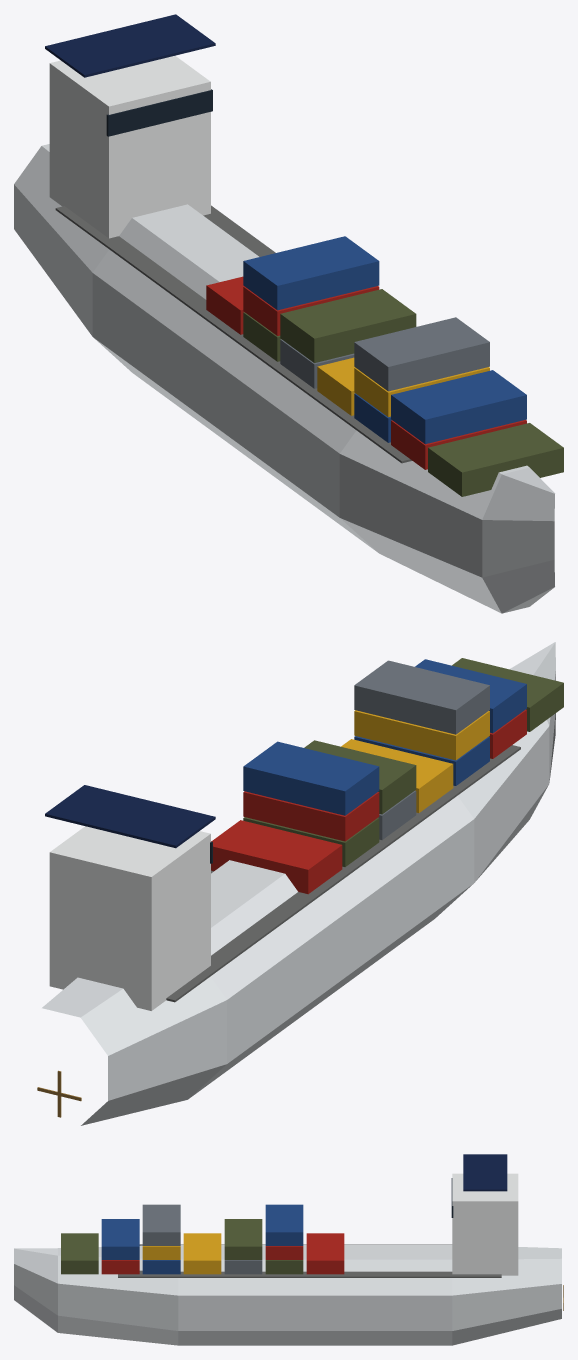
The model's file is veh_naval_merchant_a09.glb.
The picture shows the model from 3 angles, top to bottom: view 1: azimuth 30°, elevation 25°; view 2: azimuth 150°, elevation 25°; view 3: azimuth 270°, elevation 25°; orthographic projection. The views are drawn at different scales.
Parts seen in each view (by area): view 1: body; view 2: body; view 3: body.
Boxes of the visible parts, x1,y1,x2,y2 form: body: [14, 14, 563, 613]; body: [42, 642, 563, 1125]; body: [14, 1154, 561, 1345].
Size of what is drawn, in the model's own units: 5.47 by 11.63 by 34.92.
